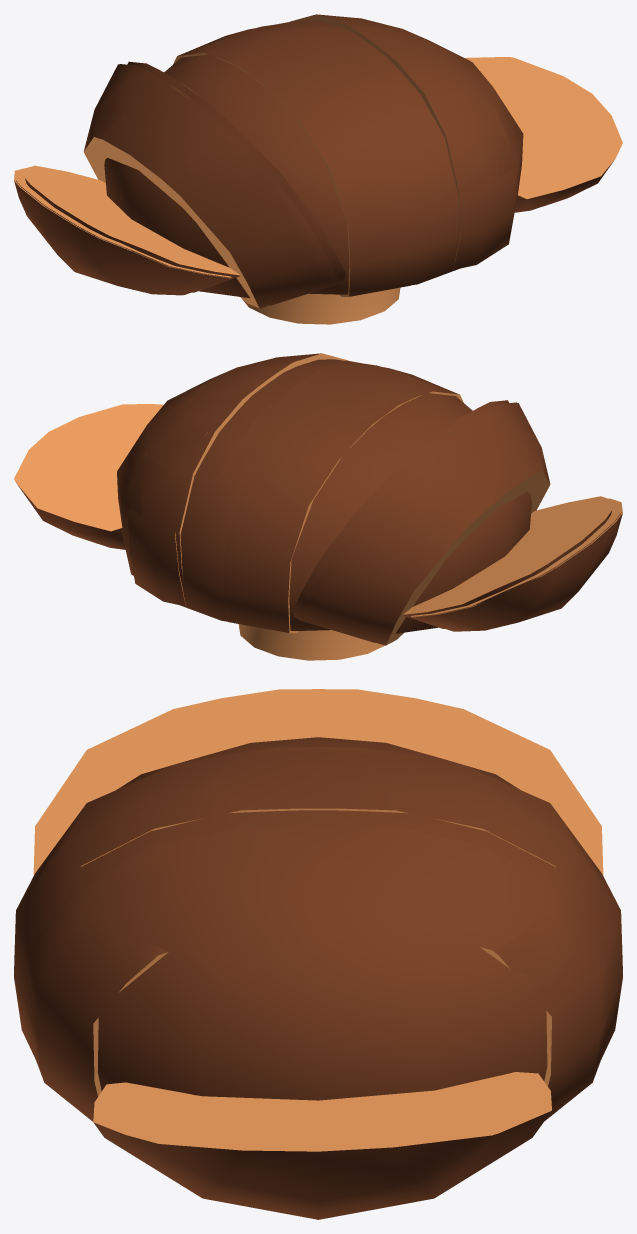
File: Mushroom.fbx
3 renders of one model, top to bottom at view 1: azimuth 30°, elevation 25°; view 2: azimuth 150°, elevation 25°; view 3: azimuth 270°, elevation 25°, orthographic. The views are drawn at different scales.
Visible parts, largest first — view 1: Mushroom slice 4, Mushroom slice 1, Mushroom slice 5, Mushroom slice 3, Mushroom slice 2, Mushroom slice 0; view 2: Mushroom slice 4, Mushroom slice 1, Mushroom slice 5, Mushroom slice 3, Mushroom slice 2, Mushroom slice 0; view 3: Mushroom slice 4, Mushroom slice 5, Mushroom slice 3, Mushroom slice 1.
Boxes of the visible parts, <box> form: Mushroom slice 4: <box>14,14,523,308</box>; Mushroom slice 1: <box>164,20,459,294</box>; Mushroom slice 5: <box>15,57,622,307</box>; Mushroom slice 3: <box>24,39,419,305</box>; Mushroom slice 2: <box>104,75,345,298</box>; Mushroom slice 0: <box>242,287,400,324</box>; Mushroom slice 4: <box>117,353,622,645</box>; Mushroom slice 1: <box>180,359,472,630</box>; Mushroom slice 5: <box>14,402,621,627</box>; Mushroom slice 3: <box>219,385,612,642</box>; Mushroom slice 2: <box>361,398,531,633</box>; Mushroom slice 0: <box>238,624,384,660</box>; Mushroom slice 4: <box>14,689,622,1100</box>; Mushroom slice 5: <box>27,690,609,1219</box>; Mushroom slice 3: <box>34,697,620,917</box>; Mushroom slice 1: <box>14,737,622,1059</box>.
Size of the model in its own units: 11.26 by 4.65 by 7.13.
